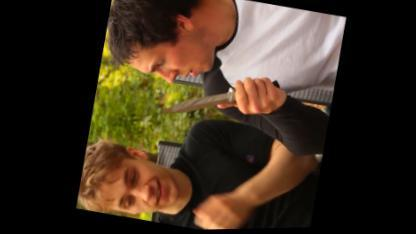knife: (147, 58, 265, 139)
